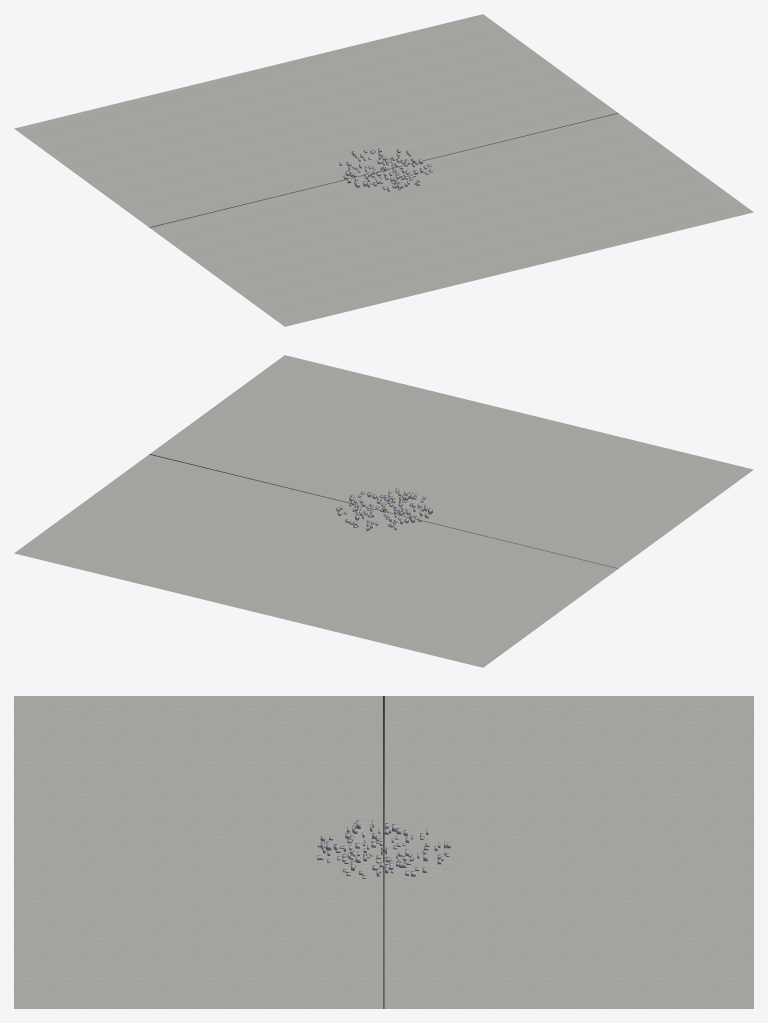
Rendered from r3d_place_sunny_street.glb.
The picture shows the model from 3 angles, top to bottom: view 1: azimuth 30°, elevation 25°; view 2: azimuth 150°, elevation 25°; view 3: azimuth 270°, elevation 25°; orthographic projection. The views are drawn at different scales.
Visible parts, largest first — view 1: backdrop, backdrop_town_far, backdrop_road_ground; view 2: backdrop, backdrop_town_far, backdrop_road_ground; view 3: backdrop, backdrop_town_far, backdrop_road_ground.
Boxes of the visible parts, x1,y1,x2,y2 form: backdrop: (14, 14, 753, 326); backdrop_town_far: (339, 148, 432, 191); backdrop_road_ground: (149, 113, 618, 227); backdrop: (14, 355, 753, 667); backdrop_town_far: (336, 488, 432, 531); backdrop_road_ground: (149, 454, 618, 568); backdrop: (14, 696, 753, 1008); backdrop_town_far: (317, 820, 450, 878); backdrop_road_ground: (383, 696, 384, 1008).
Size of what is drawn, in the model's own units: 3000 by 28.39 by 3000.
Materials: 21 (4 with a texture image).
